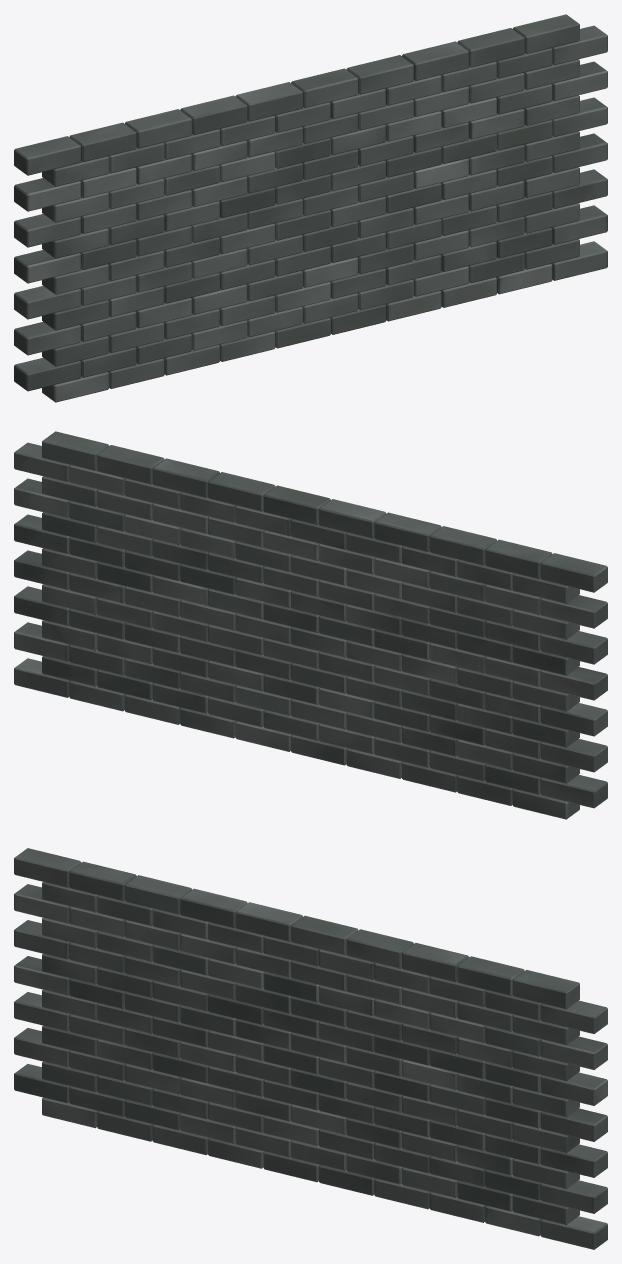
The model's file is Medieval Wall_2.fbx.
3 views of the same model, one above another, from view 1: azimuth 30°, elevation 25°; view 2: azimuth 150°, elevation 25°; view 3: azimuth 330°, elevation 25° (orthographic).
Visible parts, largest first — view 1: Wall_1; view 2: Wall_1; view 3: Wall_1.
Part boxes in pixels (left/top/right/bottom): Wall_1: left=14, top=14, right=607, bottom=402; Wall_1: left=14, top=431, right=607, bottom=819; Wall_1: left=14, top=848, right=607, bottom=1249.
Bounding box in the file's own units: 979 × 405 × 40.59.
1 material, 1 textured.
